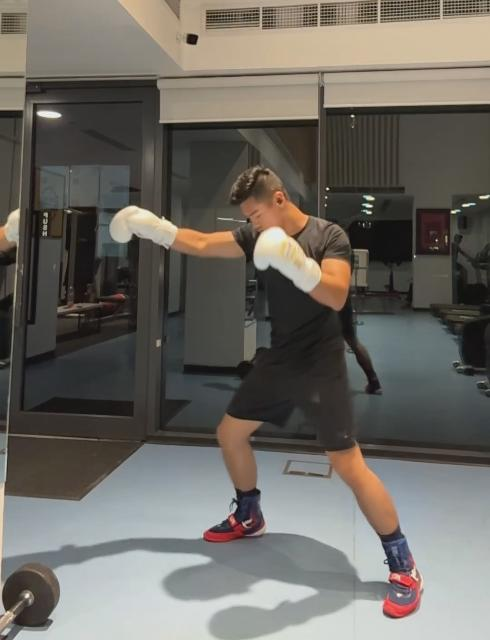punch: (110, 163, 424, 622)
